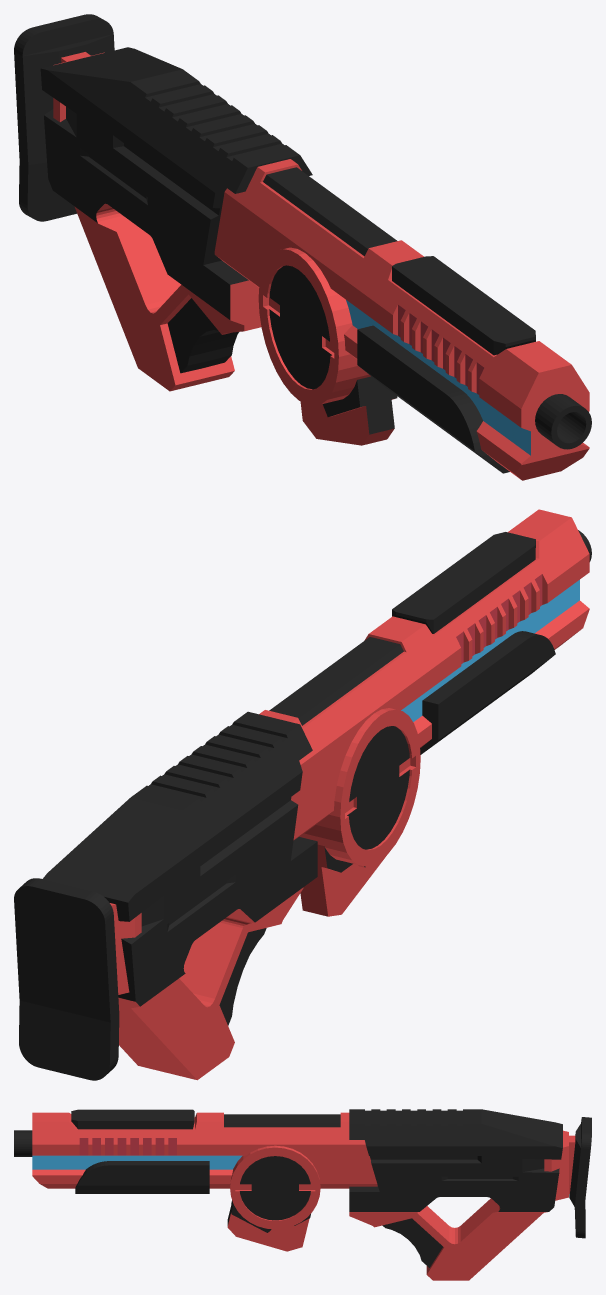
Rendered from Sci-fi_gun.fbx.
3 views of the same model, one above another, from view 1: azimuth 30°, elevation 25°; view 2: azimuth 150°, elevation 25°; view 3: azimuth 270°, elevation 25° (orthographic). The views are drawn at different scales.
Visible parts, largest first — view 1: Gun; view 2: Gun; view 3: Gun.
Boxes of the visible parts, x1,y1,x2,y2 form: Gun: (14, 14, 591, 480); Gun: (14, 509, 591, 1080); Gun: (14, 1109, 591, 1280).
Size of the model in its own units: 13.76 by 40.31 by 134.
